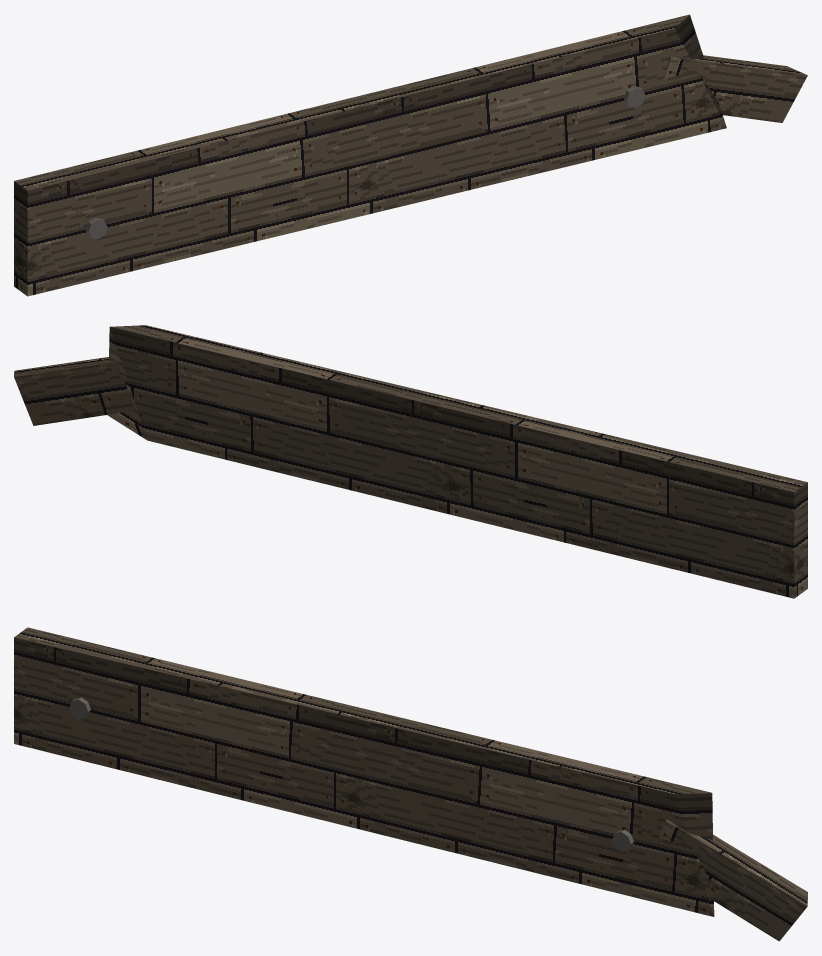
File: PRP_Plank_1.0_Broken.glb
The picture shows the model from 3 angles, top to bottom: view 1: azimuth 30°, elevation 25°; view 2: azimuth 150°, elevation 25°; view 3: azimuth 330°, elevation 25°; orthographic projection.
Parts seen in each view (by area): view 1: Plank, Splinter; view 2: Plank, Splinter; view 3: Plank, Splinter.
Part boxes in pixels (x1,y1,x2,y2): Plank: (14,14,726,296); Splinter: (664,55,807,122); Plank: (107,325,807,598); Splinter: (14,357,135,425); Plank: (14,627,714,916); Splinter: (659,819,807,941).
Bounding box in the file's own units: 1.16 × 0.1683 × 0.047.
2 materials, 1 textured.
